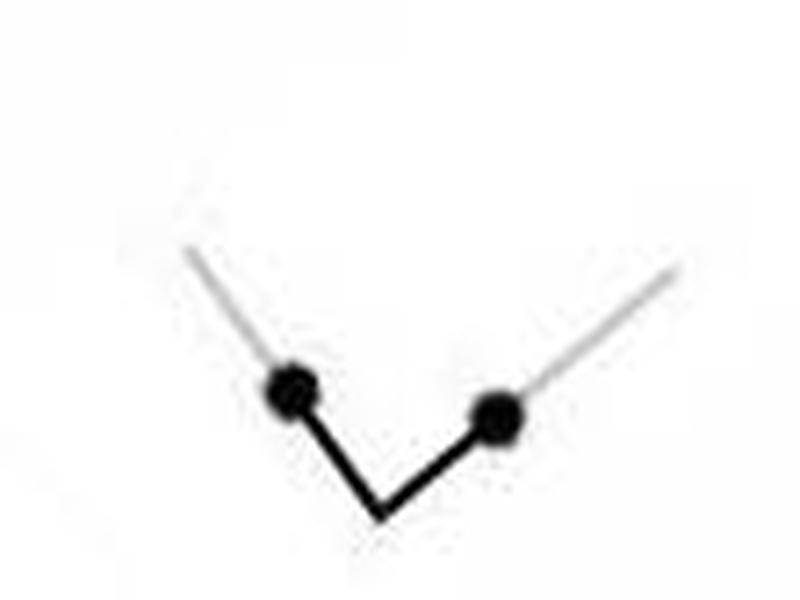butt_weld_90: (123, 223, 743, 550)
